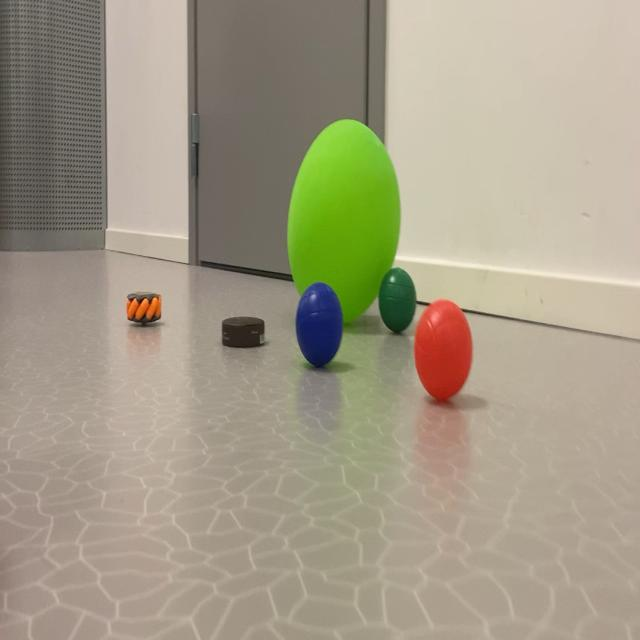7: (404, 288, 478, 419)
green ball: (277, 265, 353, 406)
red ball: (378, 266, 420, 344)
